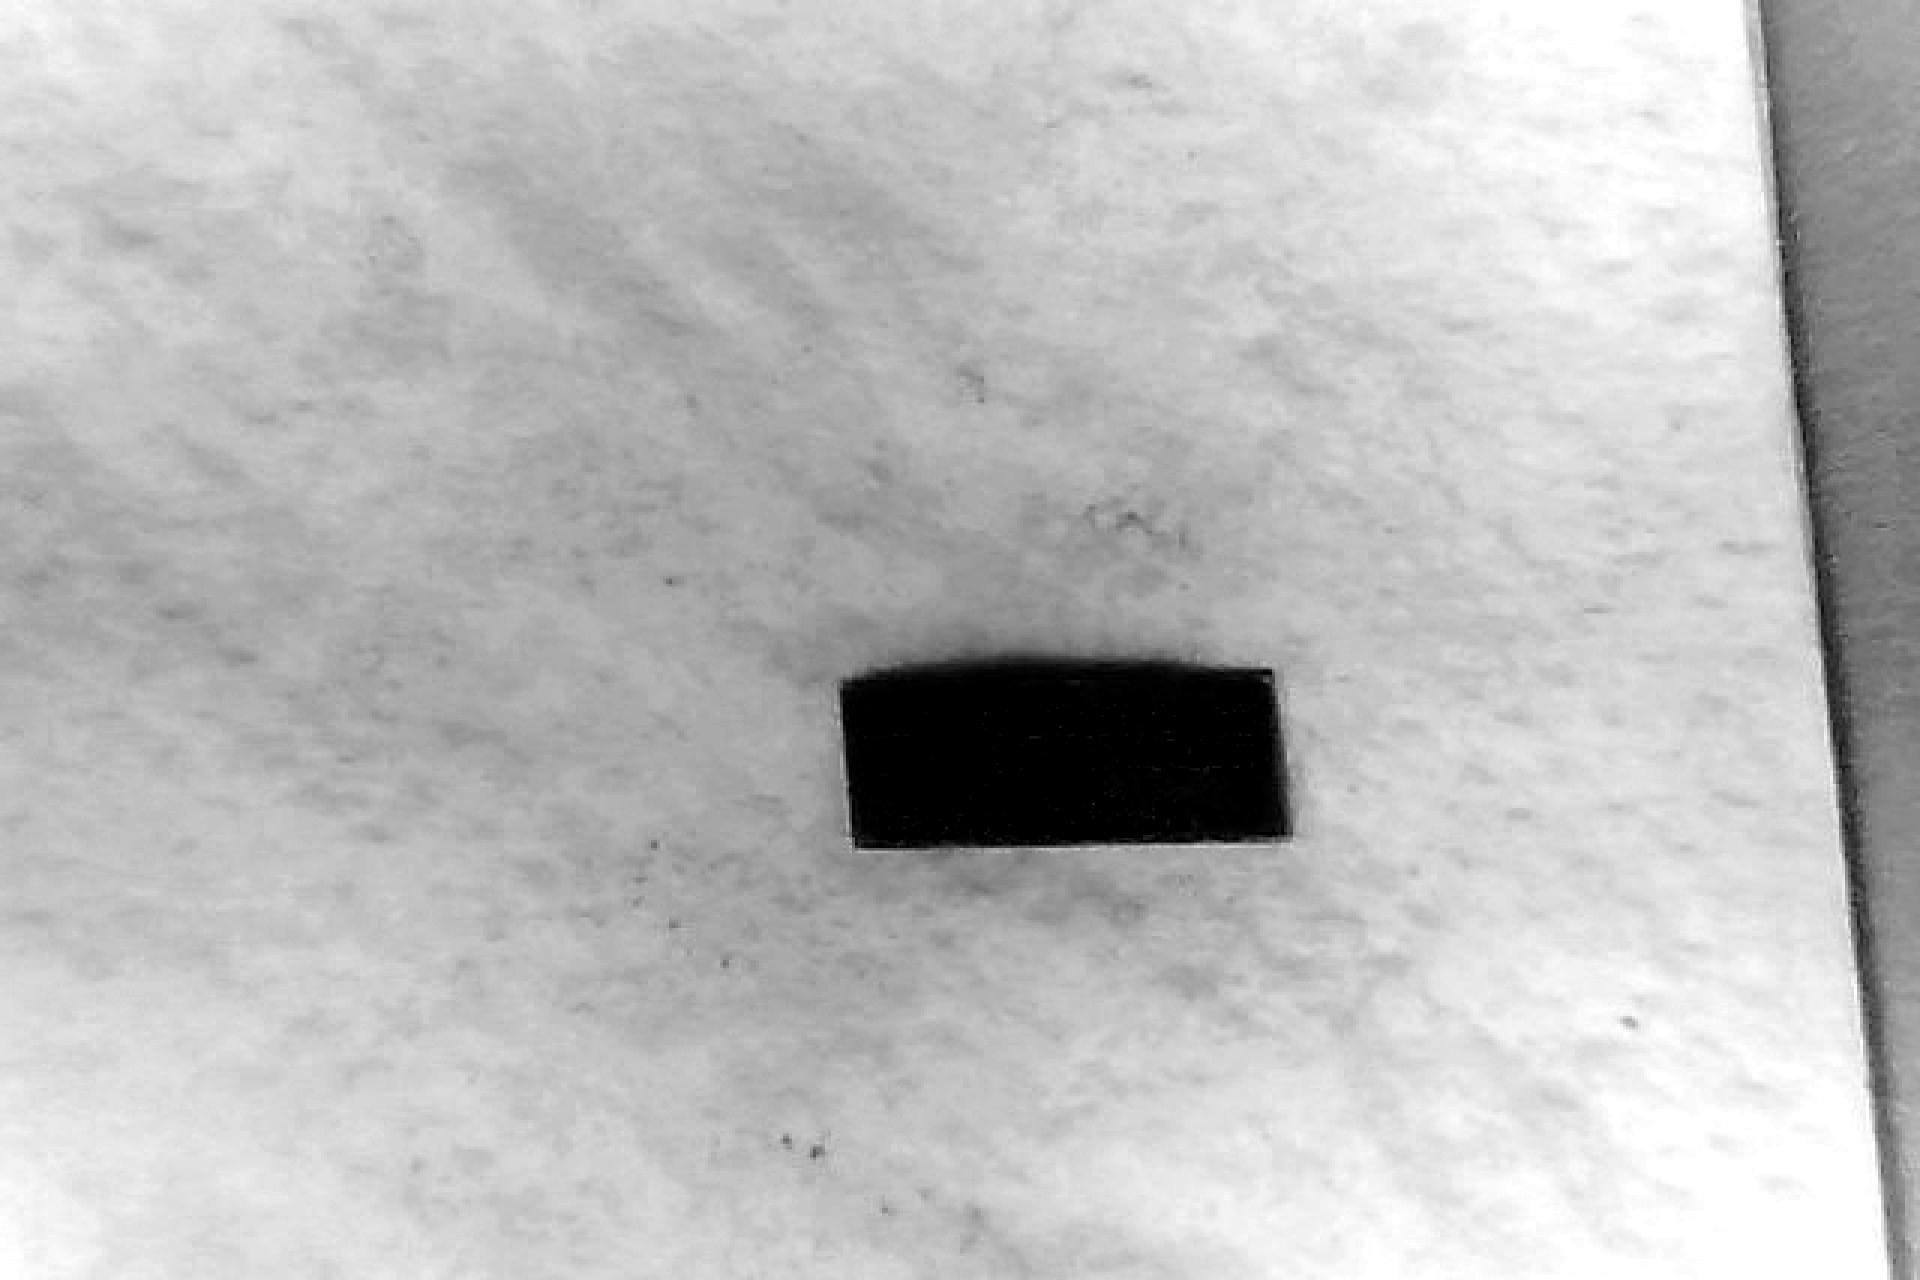hand_label: (844, 667, 1286, 847)
